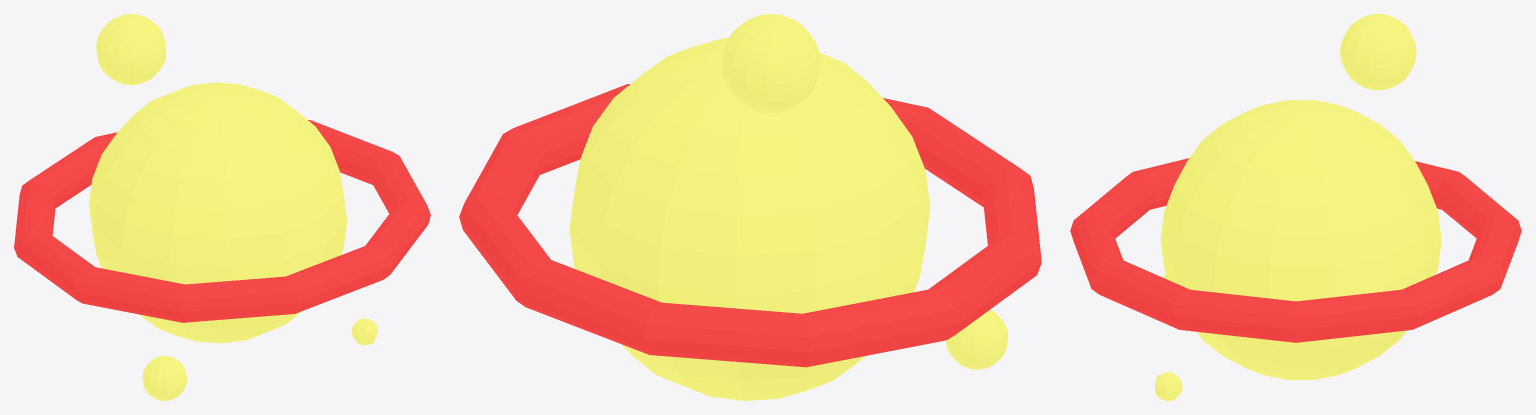
File: gatzprojectil.glb
3 renders of one model, left to right at view 1: azimuth 30°, elevation 25°; view 2: azimuth 150°, elevation 25°; view 3: azimuth 270°, elevation 25°, orthographic. The views are drawn at different scales.
Parts seen in each view (by area): view 1: Sphere, Torus, Sphere.001, Sphere.002, Sphere.003; view 2: Sphere, Torus, Sphere.001, Sphere.002; view 3: Sphere, Torus, Sphere.001, Sphere.003.
Boxes of the visible parts, box(x1,y1,x2,y2) form: Sphere: box(89, 82, 346, 343); Torus: box(14, 120, 430, 322); Sphere.001: box(96, 14, 166, 84); Sphere.002: box(142, 356, 186, 400); Sphere.003: box(351, 318, 377, 345); Sphere: box(569, 38, 930, 400); Torus: box(459, 84, 1041, 367); Sphere.001: box(722, 14, 820, 113); Sphere.002: box(946, 310, 1008, 369); Sphere: box(1160, 100, 1441, 379); Torus: box(1070, 158, 1521, 342); Sphere.001: box(1340, 14, 1416, 90); Sphere.003: box(1155, 372, 1182, 400).
Bounding box in the file's own units: 3.18 × 2.55 × 3.21.
